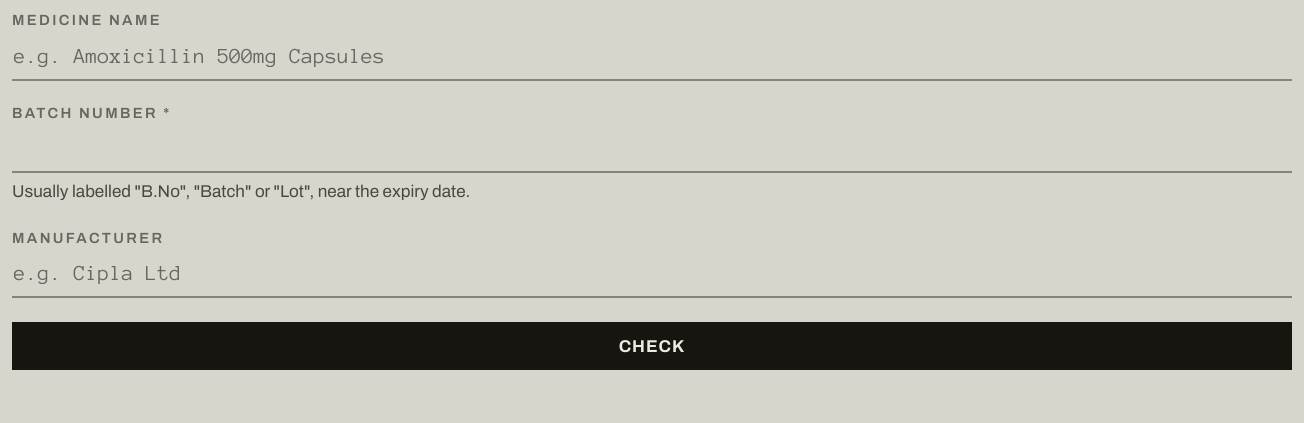
MedicineIdentityForm › requires a batch number
Click the button "Check" at (652, 346), box x1=12 y1=322 x2=1292 y2=370
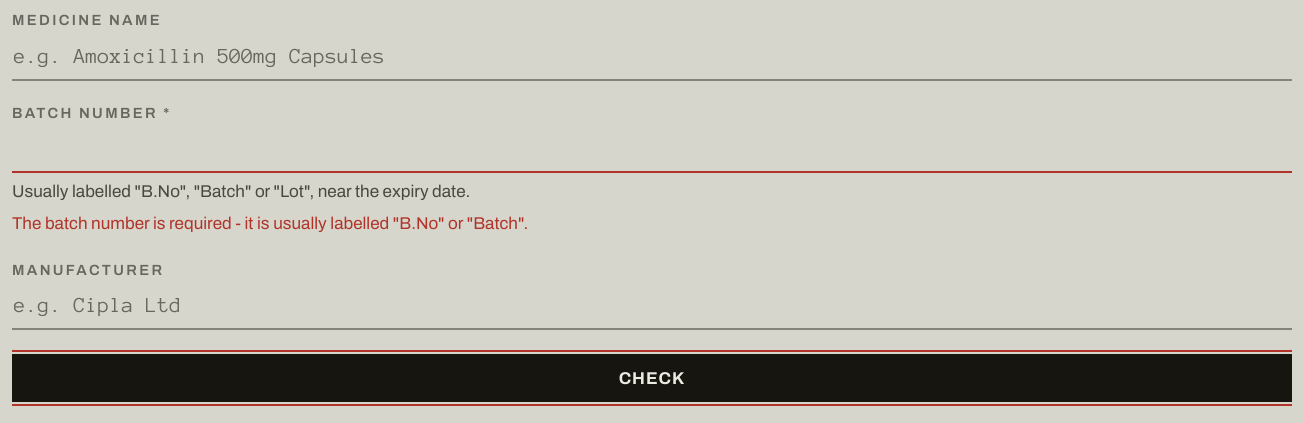
Check: the message shows "batch number is required", box x1=12 y1=214 x2=528 y2=234
